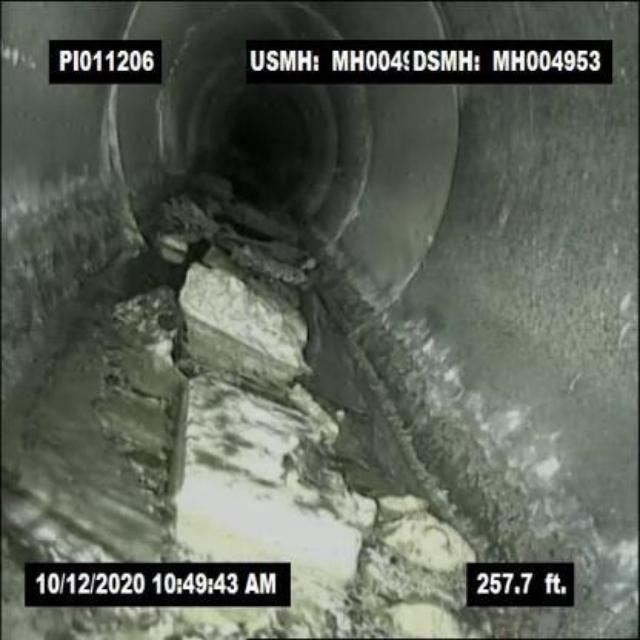Obstacle: (175, 375, 375, 562), (162, 225, 317, 369)
